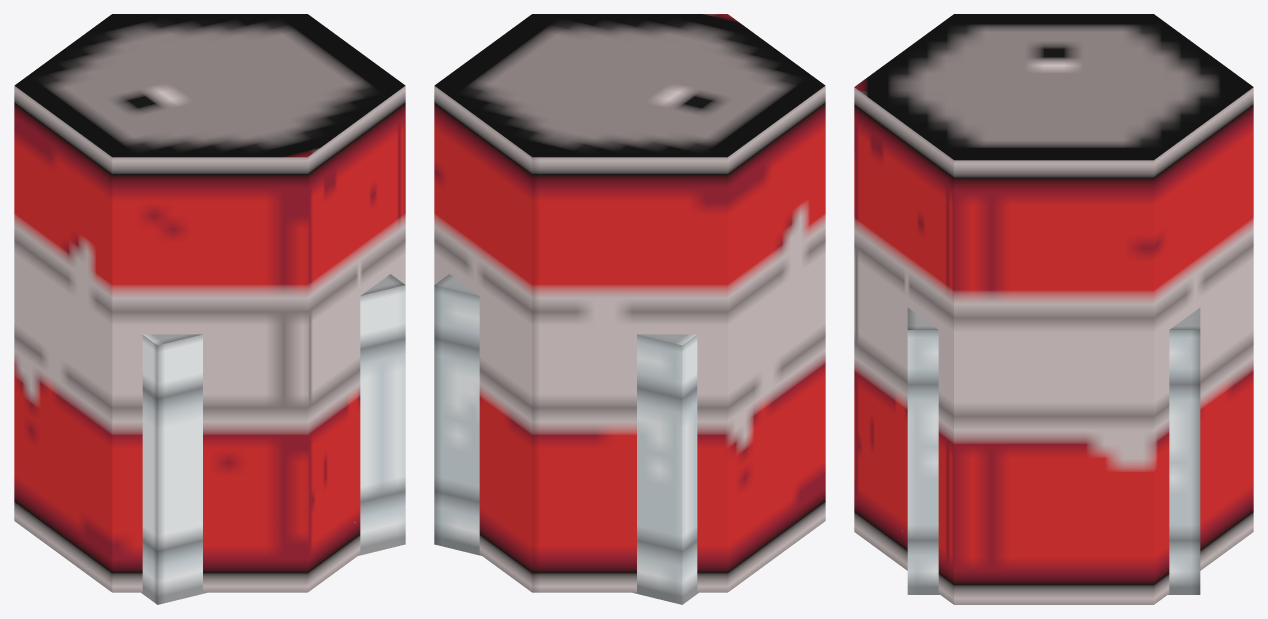
Rendered from mesh_list.glb.
3 views of the same model, side by side, from view 1: azimuth 30°, elevation 25°; view 2: azimuth 150°, elevation 25°; view 3: azimuth 270°, elevation 25° (orthographic). The views are drawn at different scales.
Parts seen in each view (by area): view 1: __BARREL__, __HP_PACK__; view 2: __BARREL__, __HP_PACK__; view 3: __BARREL__, __HP_PACK__.
Boxes of the visible parts, x1=… form: __BARREL__: x1=14, y1=14, x2=405, y2=592; __HP_PACK__: x1=141, y1=274, x2=405, y2=604; __BARREL__: x1=434, y1=14, x2=825, y2=592; __HP_PACK__: x1=434, y1=274, x2=698, y2=604; __BARREL__: x1=854, y1=14, x2=1253, y2=604; __HP_PACK__: x1=907, y1=307, x2=1200, y2=594.
Bounding box in the file's own units: 1.12 × 1.6 × 1.29.
Materials: 1 (1 with a texture image).
